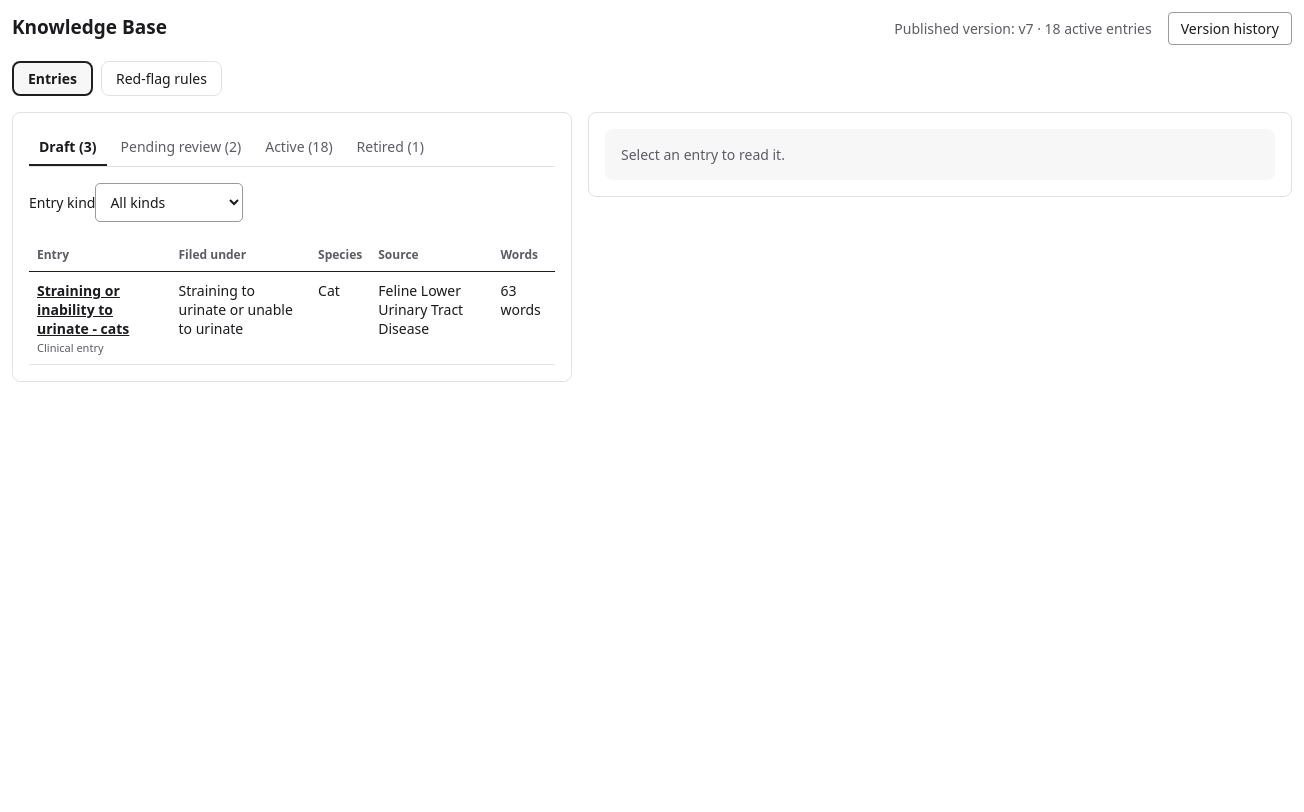
who may approve (BR-04, FR-52) › offers neither to a reviewer without the permission
Click the button "Straining or inability to urinate - cats" at (100, 310), box [37,281,162,338]
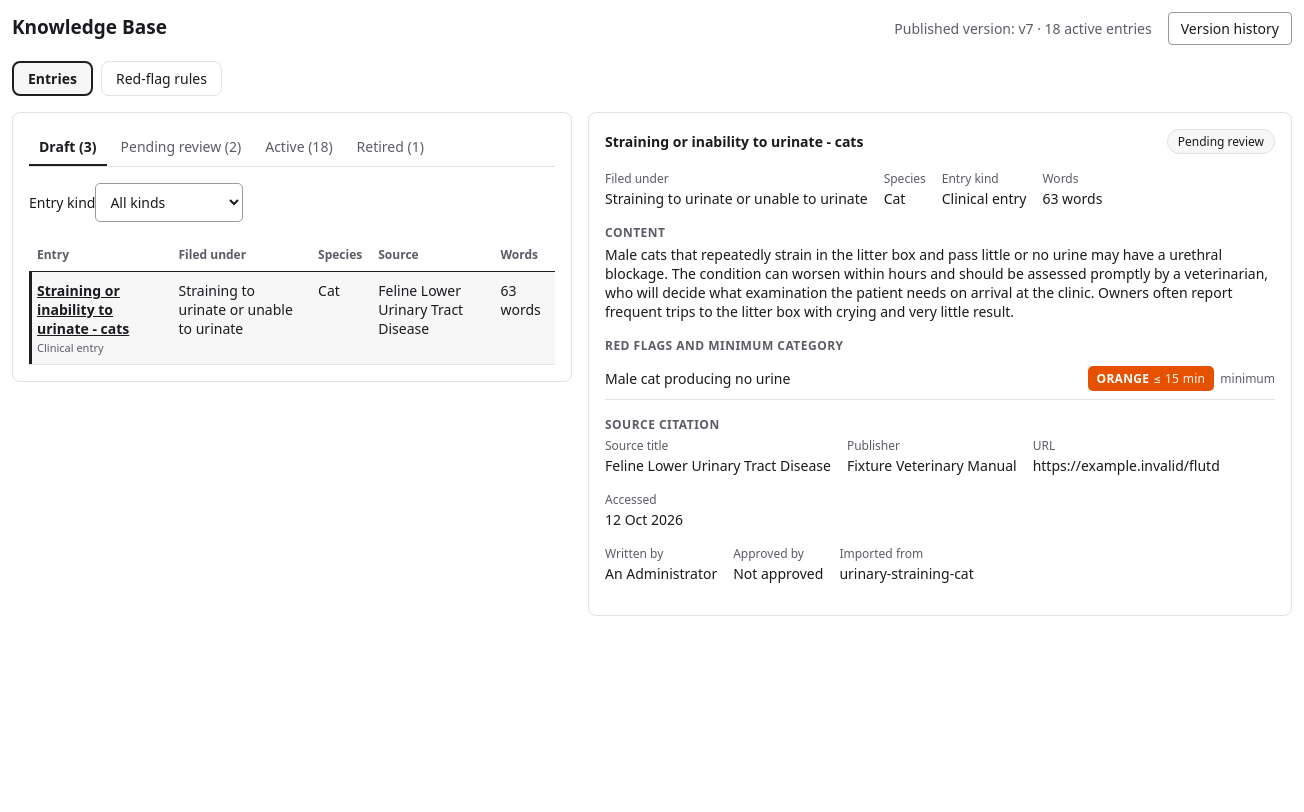
Check: the heading "Content" is shown, box [605,224,666,241]
